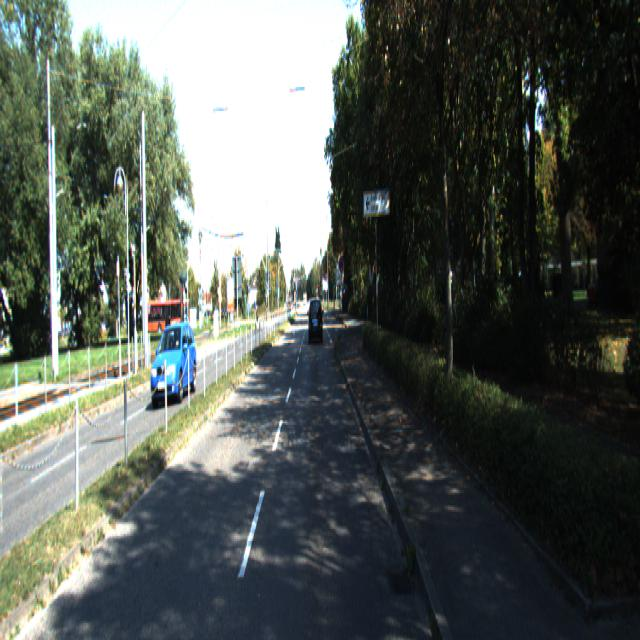Car: (151, 322, 197, 408), (309, 298, 323, 346)
